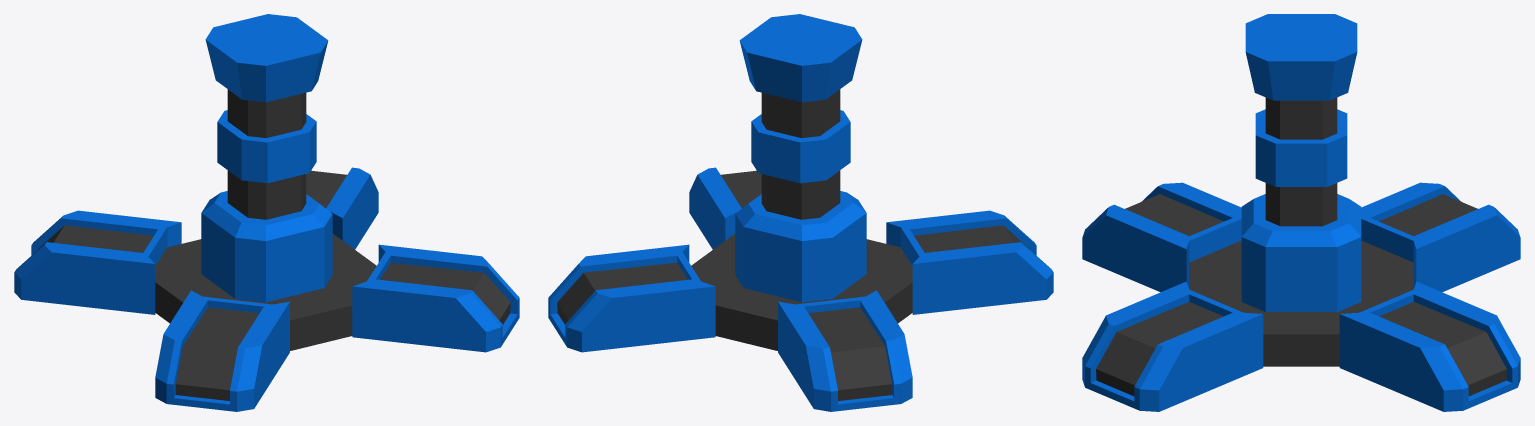
The model's file is turret2body.fbx.
3 renders of one model, left to right at view 1: azimuth 30°, elevation 25°; view 2: azimuth 150°, elevation 25°; view 3: azimuth 270°, elevation 25°, orthographic. The views are drawn at different scales.
Parts seen in each view (by area): view 1: Cube.001; view 2: Cube.001; view 3: Cube.001.
Part boxes in pixels (x1,y1,x2,y2): Cube.001: (14,14,519,411); Cube.001: (548,14,1053,411); Cube.001: (1082,14,1520,411).
Bounding box in the file's own units: 137 × 97.5 × 137.
